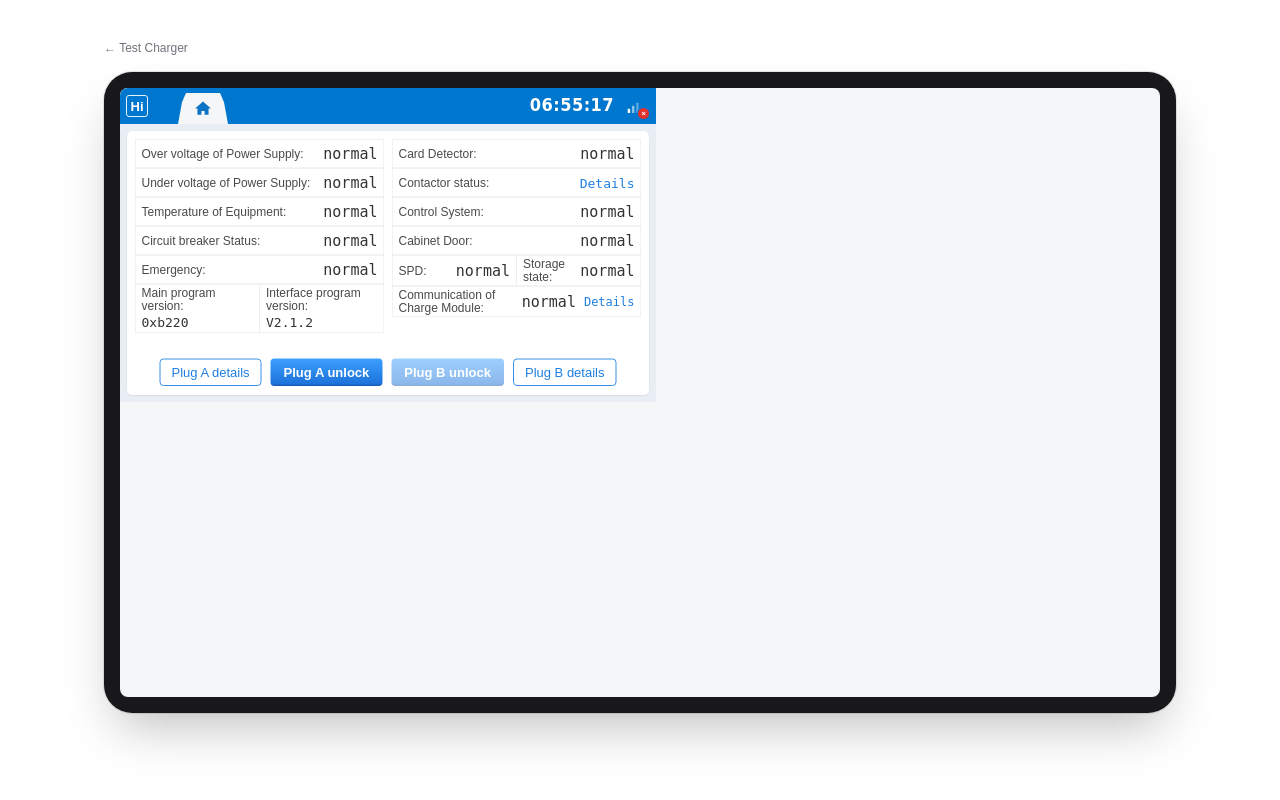
it: StatusDiagnosticsPage — per-plug unlock buttons › clicking unlock posts locked:false to the connector's lock endpoint and disables once refreshed
Step 1. Click the button "Plug A unlock" → [326, 372], box [271,358,382,386]
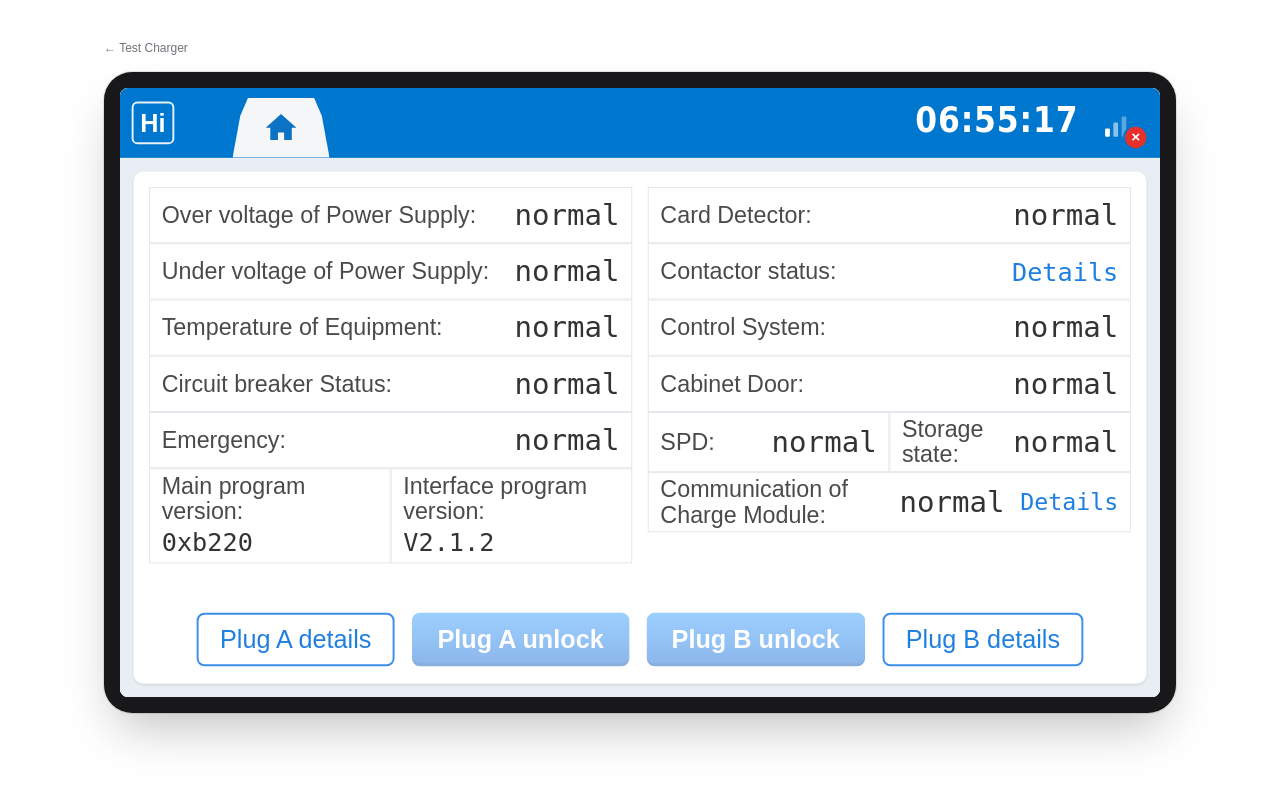
Check: the button "Plug A unlock" is disabled, box [412,613,629,666]
